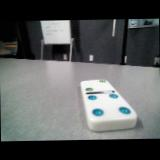domino: (81, 80, 137, 131)
